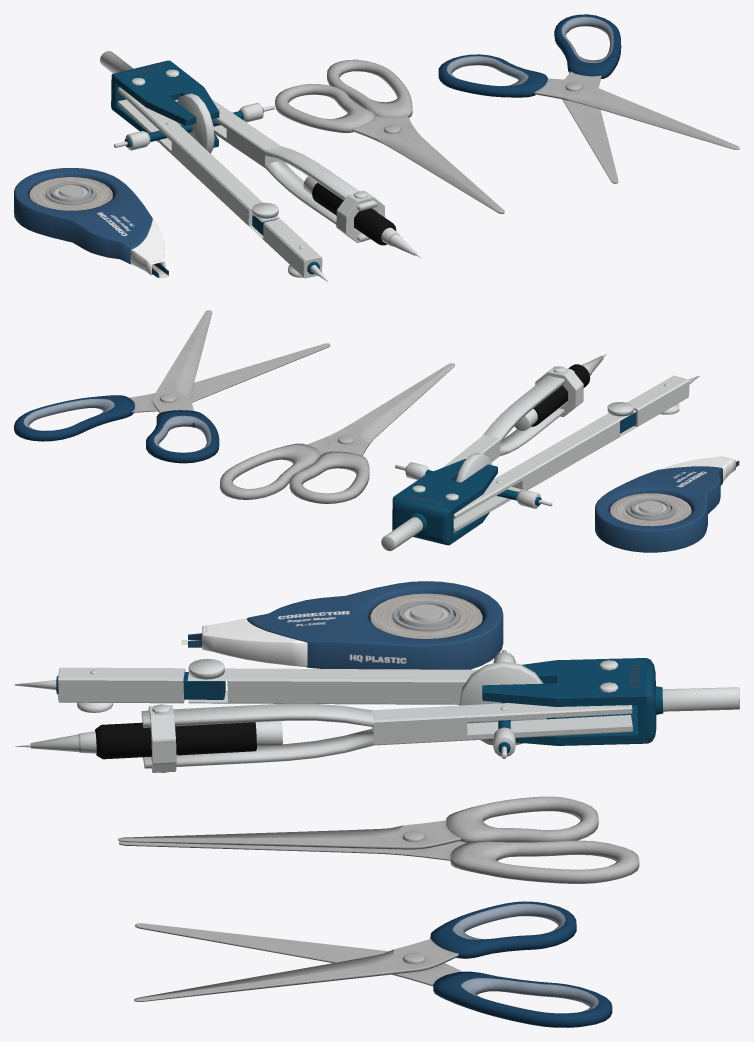
3 views of the same model, one above another, from view 1: azimuth 30°, elevation 25°; view 2: azimuth 150°, elevation 25°; view 3: azimuth 270°, elevation 25° (orthographic). The views are drawn at different scales.
Parts seen in each view (by area): view 1: Divider, Corrector, Scissors2, Scissors1; view 2: Divider, Scissors2, Corrector, Scissors1; view 3: Divider, Corrector, Scissors2, Scissors1.
Boxes of the visible parts, left/top/right/bottom form: Divider: left=100, top=51, right=420, bottom=281; Corrector: left=14, top=168, right=169, bottom=278; Scissors2: left=438, top=14, right=739, bottom=183; Scissors1: left=275, top=59, right=504, bottom=213; Divider: left=381, top=353, right=699, bottom=551; Scissors2: left=14, top=310, right=330, bottom=463; Corrector: left=595, top=456, right=739, bottom=552; Scissors1: left=219, top=363, right=454, bottom=503; Divider: left=14, top=650, right=739, bottom=772; Corrector: left=181, top=581, right=503, bottom=669; Scissors2: left=134, top=901, right=612, bottom=1027; Scissors1: left=118, top=796, right=639, bottom=883.
Bounding box in the file's own units: 37.8 × 3.41 × 27.51.
1 material, 1 textured.
